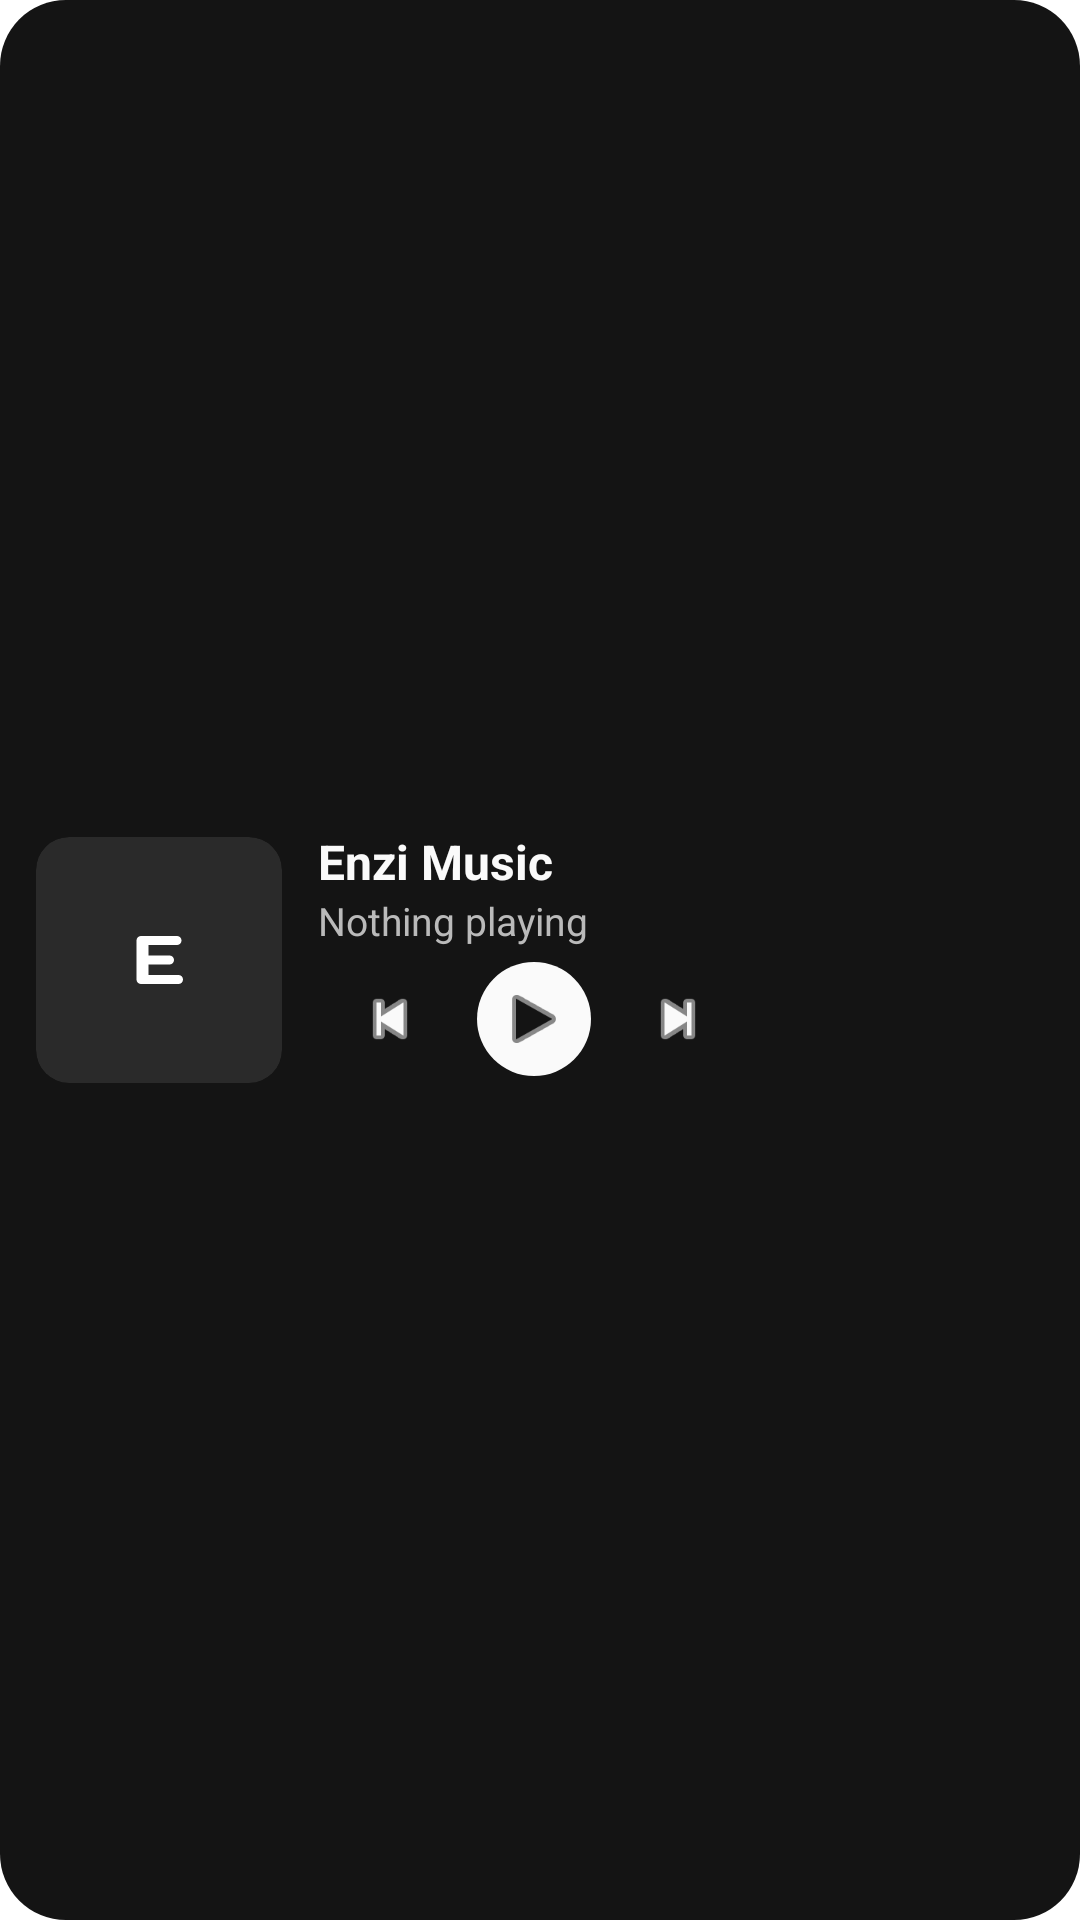

Icon bounding boxes for this 1080×1920 phone screenshot, format (x1, y1, x2, y2):
Next track: (661, 999, 695, 1039)
Previous track: (373, 999, 407, 1039)
